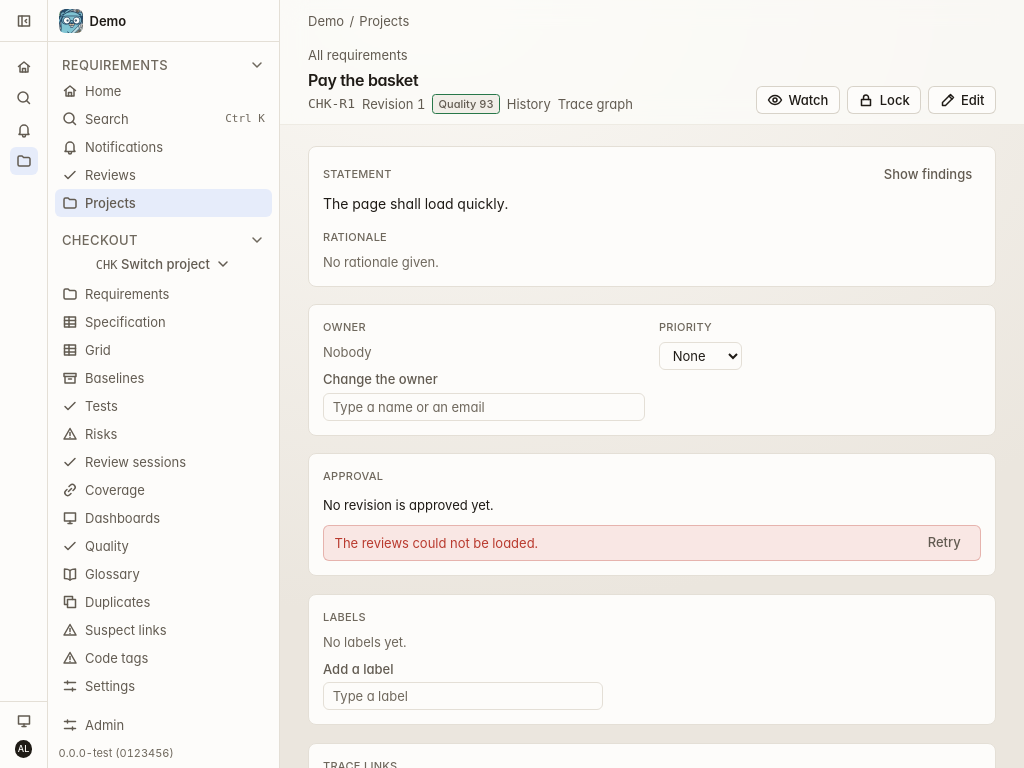
Scenario: a requirement's findings › are marked in the statement editor as the draft is checked
Click the button "Edit". click: (962, 100)
box: [928,86,996,114]
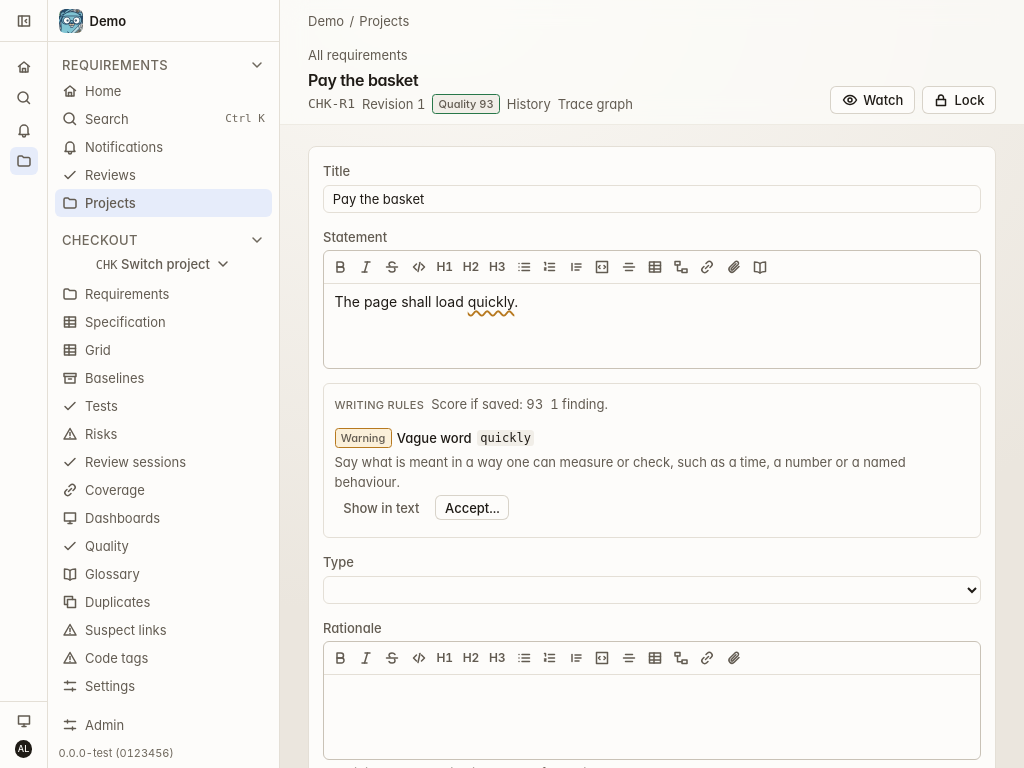
Check: the text box labelled "quickly" is shown, box [468,293,514,310]
Check: the button with aria-label "Show in text: quickly" is shown, box [334,495,428,520]
Check: the button with aria-label "Accept: quickly" is shown, box [435,495,510,520]
